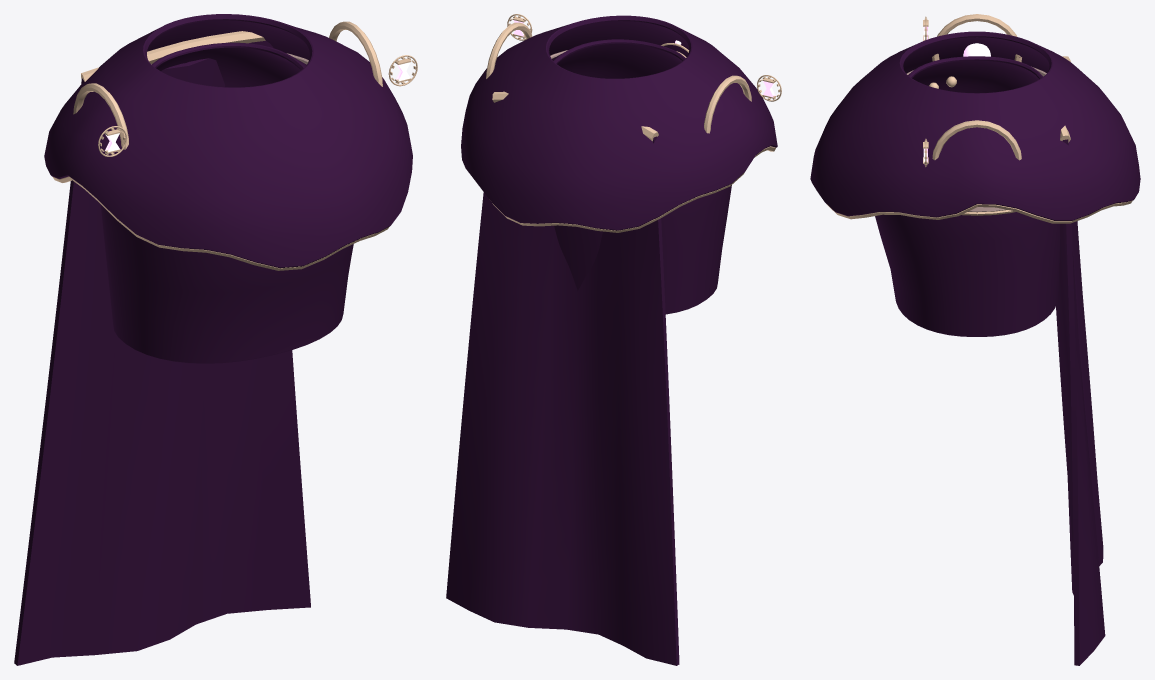
The model's file is asc_timeweaver_armor.glb.
3 renders of one model, left to right at view 1: azimuth 30°, elevation 25°; view 2: azimuth 150°, elevation 25°; view 3: azimuth 270°, elevation 25°, orthographic. The views are drawn at different scales.
Parts seen in each view (by area): view 1: asc_timeweaver_armor; view 2: asc_timeweaver_armor; view 3: asc_timeweaver_armor.
Boxes of the visible parts, box(x1,y1,x2,y2) form: asc_timeweaver_armor: box(14, 14, 417, 665); asc_timeweaver_armor: box(446, 14, 781, 665); asc_timeweaver_armor: box(810, 14, 1140, 665).
Size of the model in its own units: 0.6829 by 1.29 by 0.7093.
